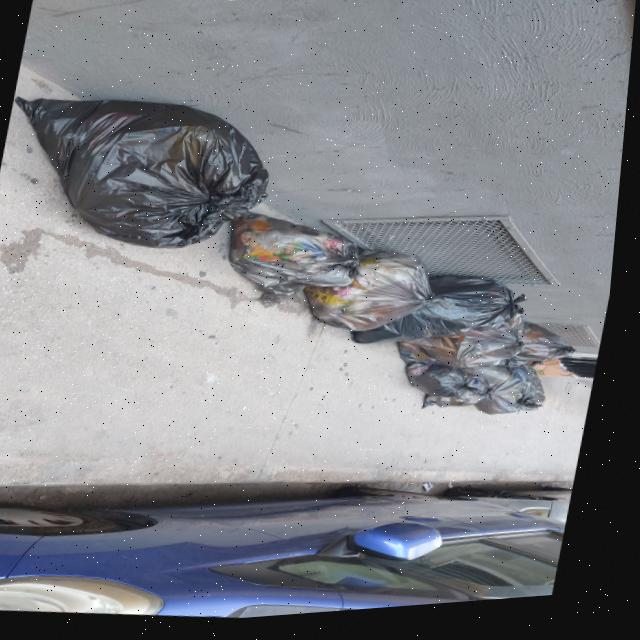Mixed Waste -Black Bag-: (1, 82, 290, 273), (219, 208, 387, 327), (303, 244, 472, 351), (356, 270, 536, 367), (399, 312, 538, 391), (478, 368, 560, 431), (508, 326, 590, 379), (429, 374, 508, 424), (408, 366, 493, 412)
Other: (530, 362, 585, 391)
